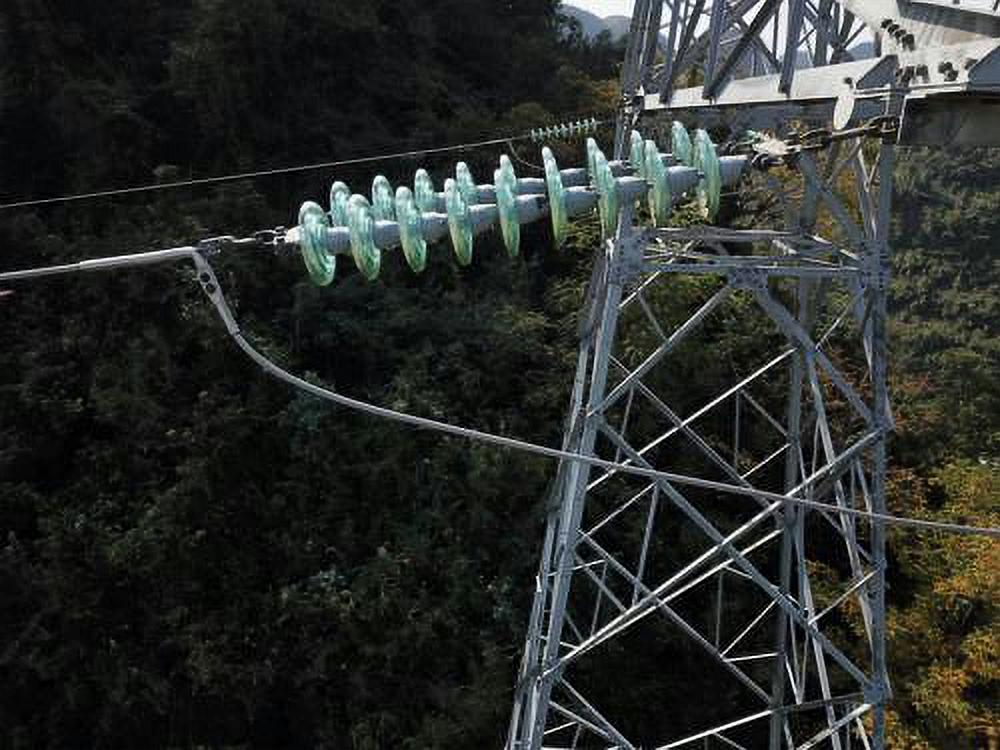insulator: (285, 115, 726, 295), (523, 111, 604, 149)
